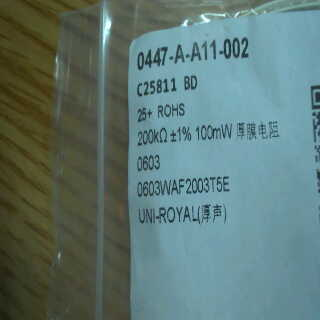200kR: (133, 126, 169, 150)
